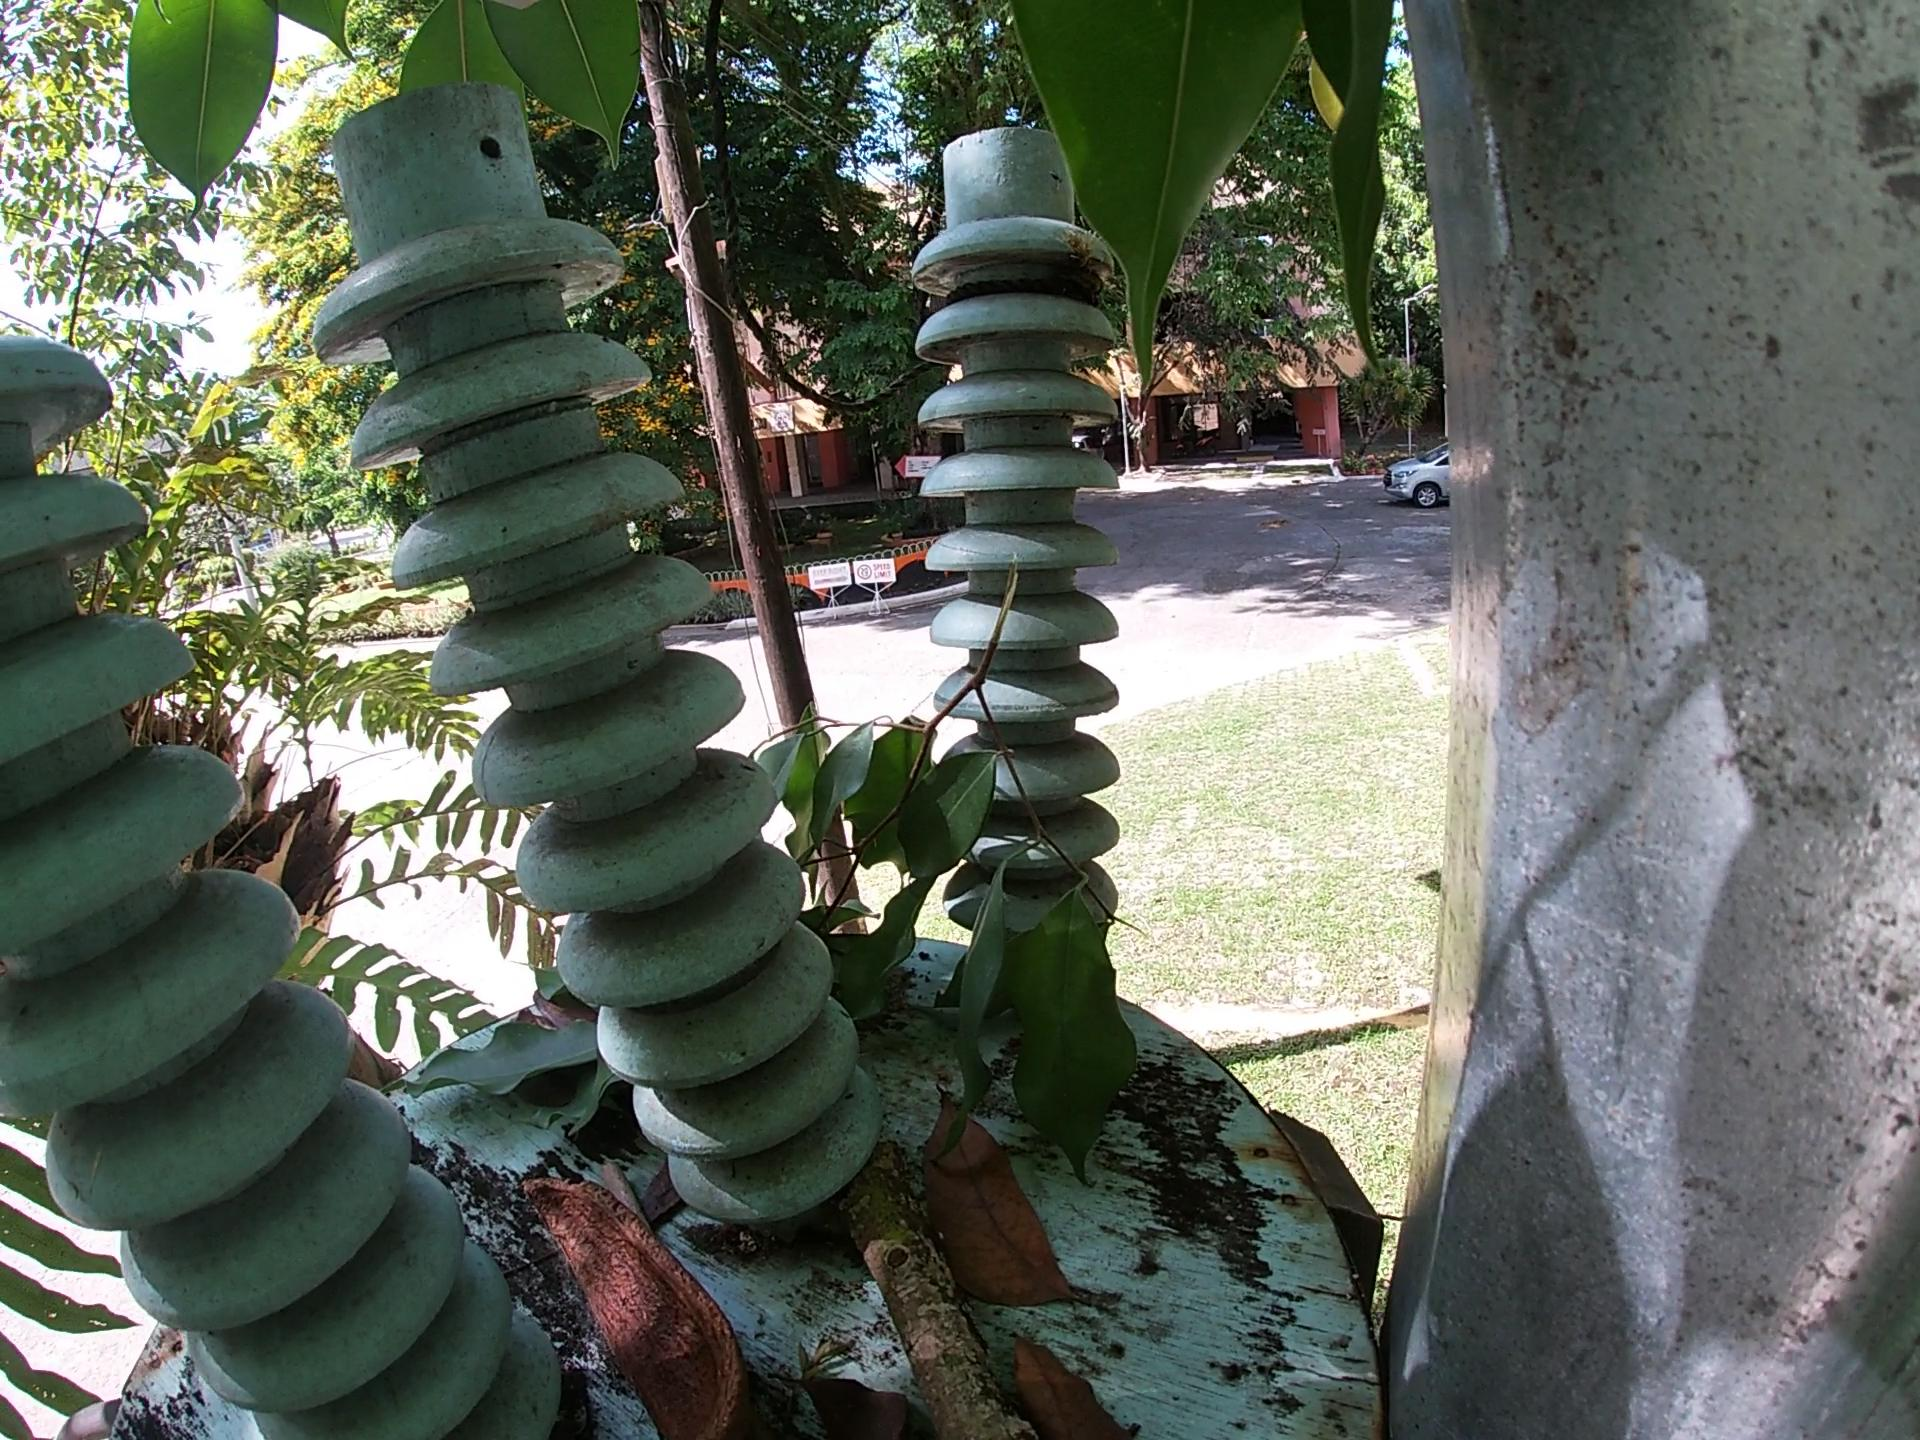branch with leaves: (739, 535, 1166, 1209)
leaf: (398, 951, 647, 1168), (909, 1101, 1087, 1296), (980, 1334, 1122, 1429), (785, 1345, 940, 1429)
mahogany fruit: (517, 1171, 754, 1434), (534, 992, 603, 1032)
tree branch: (831, 1184, 1013, 1435), (603, 1159, 649, 1231)
